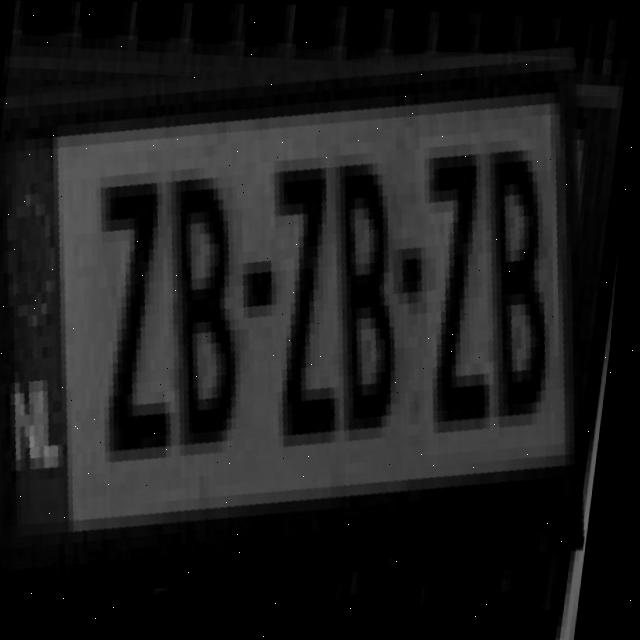LicensePlate: (0, 29, 629, 608)
